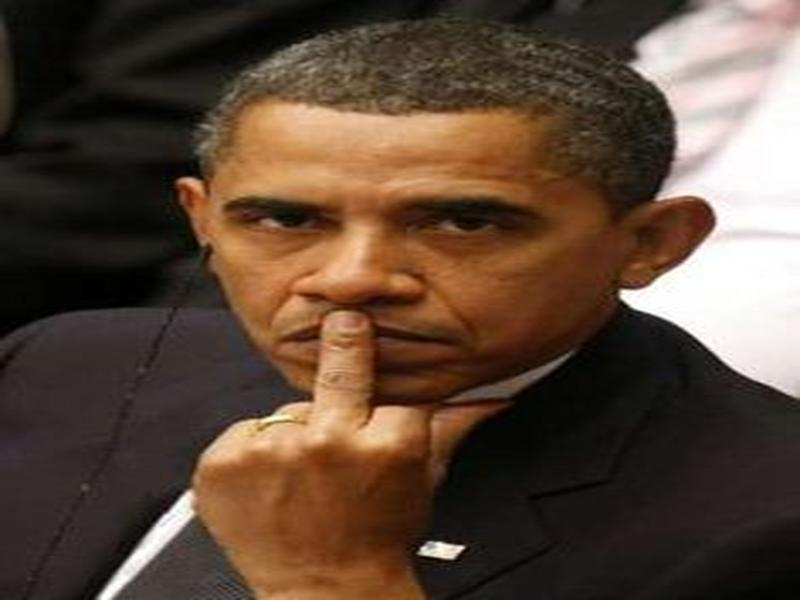flipping_the_bird: (203, 309, 432, 569)
